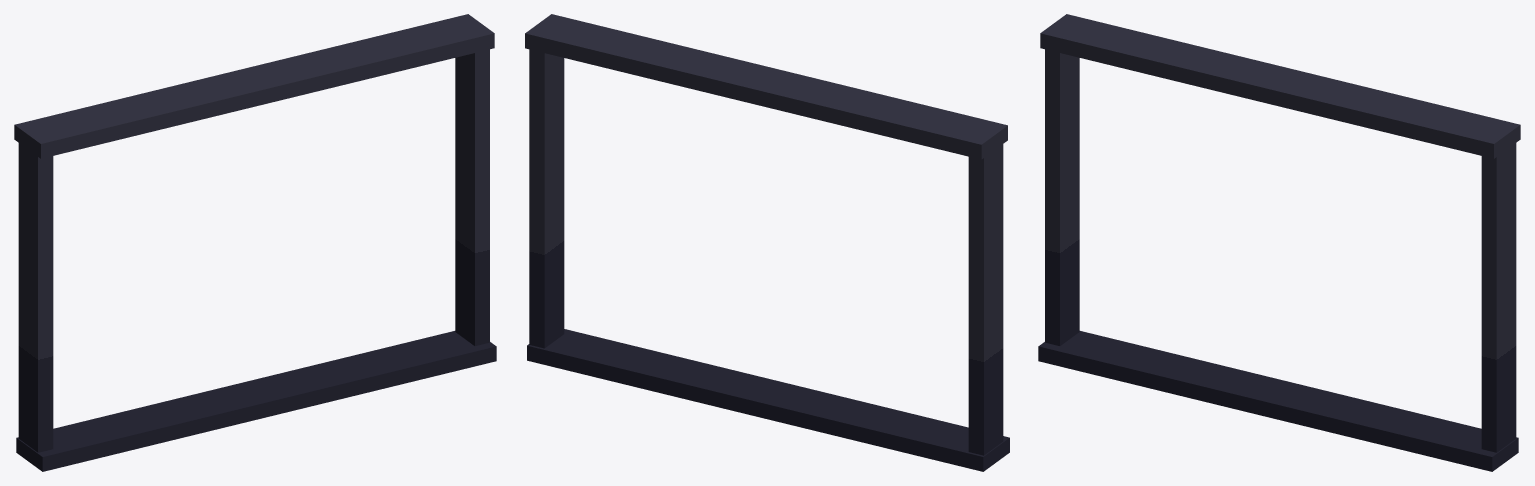
The model's file is marco_ventana.fbx.
The picture shows the model from 3 angles, left to right: view 1: azimuth 30°, elevation 25°; view 2: azimuth 150°, elevation 25°; view 3: azimuth 330°, elevation 25°; orthographic projection.
Visible parts, largest first — view 1: marco_ventana; view 2: marco_ventana; view 3: marco_ventana.
Part boxes in pixels (x1,y1,x2,y2): marco_ventana: [14, 14, 496, 471]; marco_ventana: [525, 14, 1009, 471]; marco_ventana: [1038, 14, 1520, 471].
Size of the model in its own units: 572 by 393 by 61.54.
